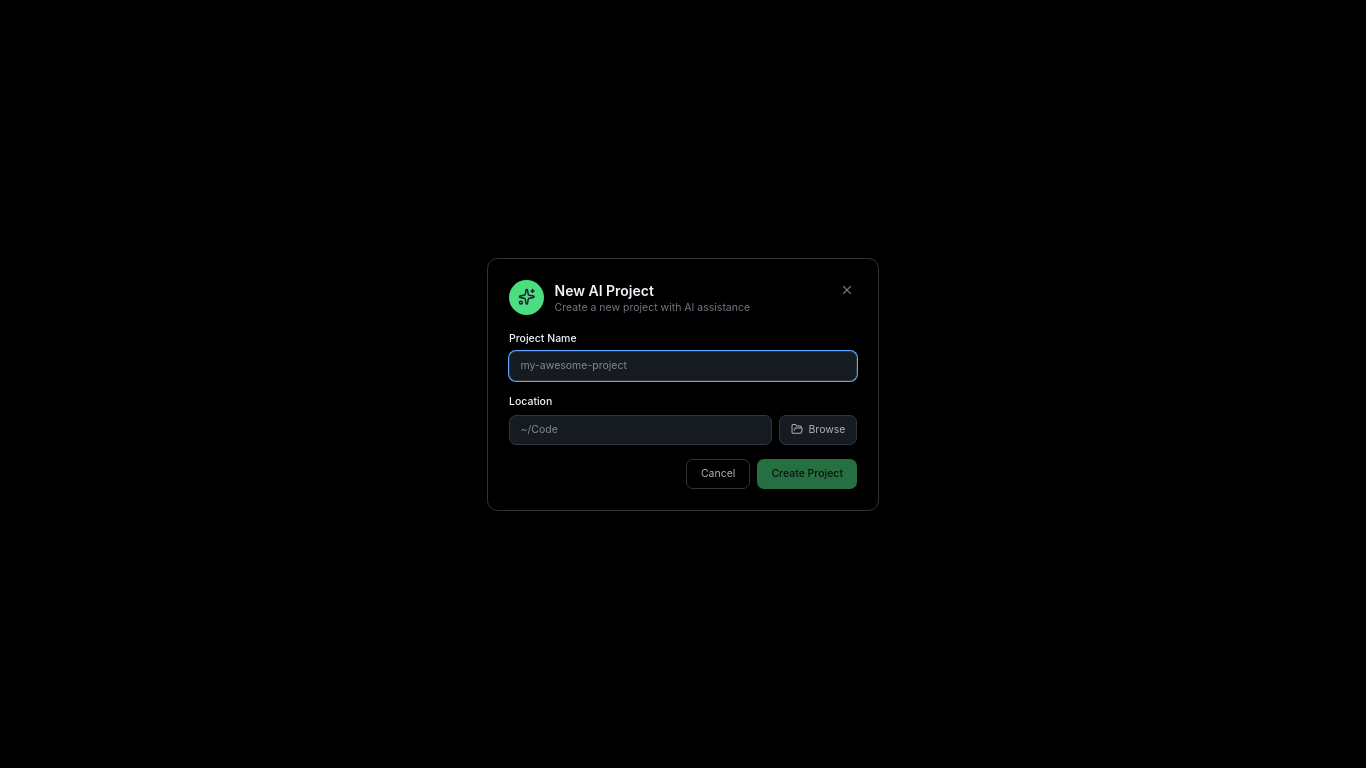
NewProjectDialog › opens file dialog and sets basePath when Browse is clicked
Click the button "Browse" at (818, 430), box x1=780 y1=414 x2=857 y2=444
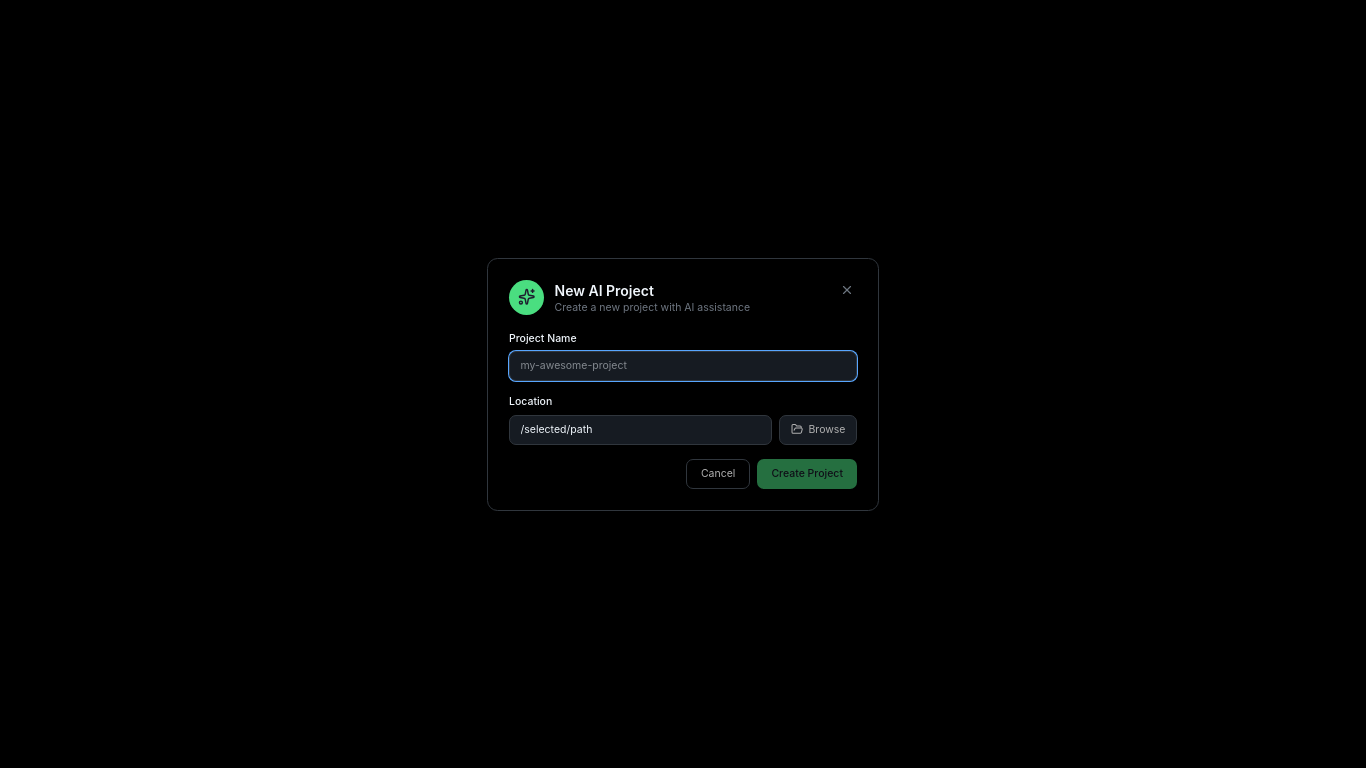
Expected: the field with placeholder "~/Code" holds "/selected/path", x1=509 y1=414 x2=772 y2=444
